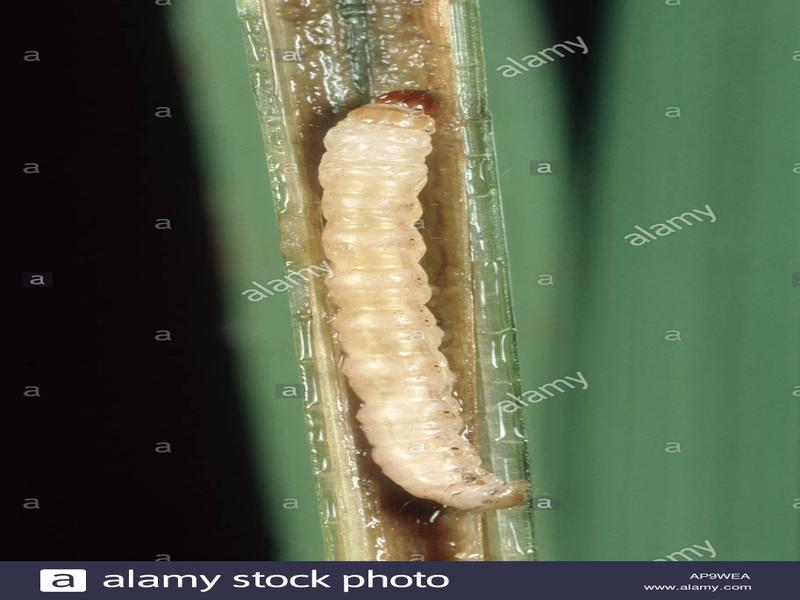Paddy_stemborer: (294, 86, 573, 518)
